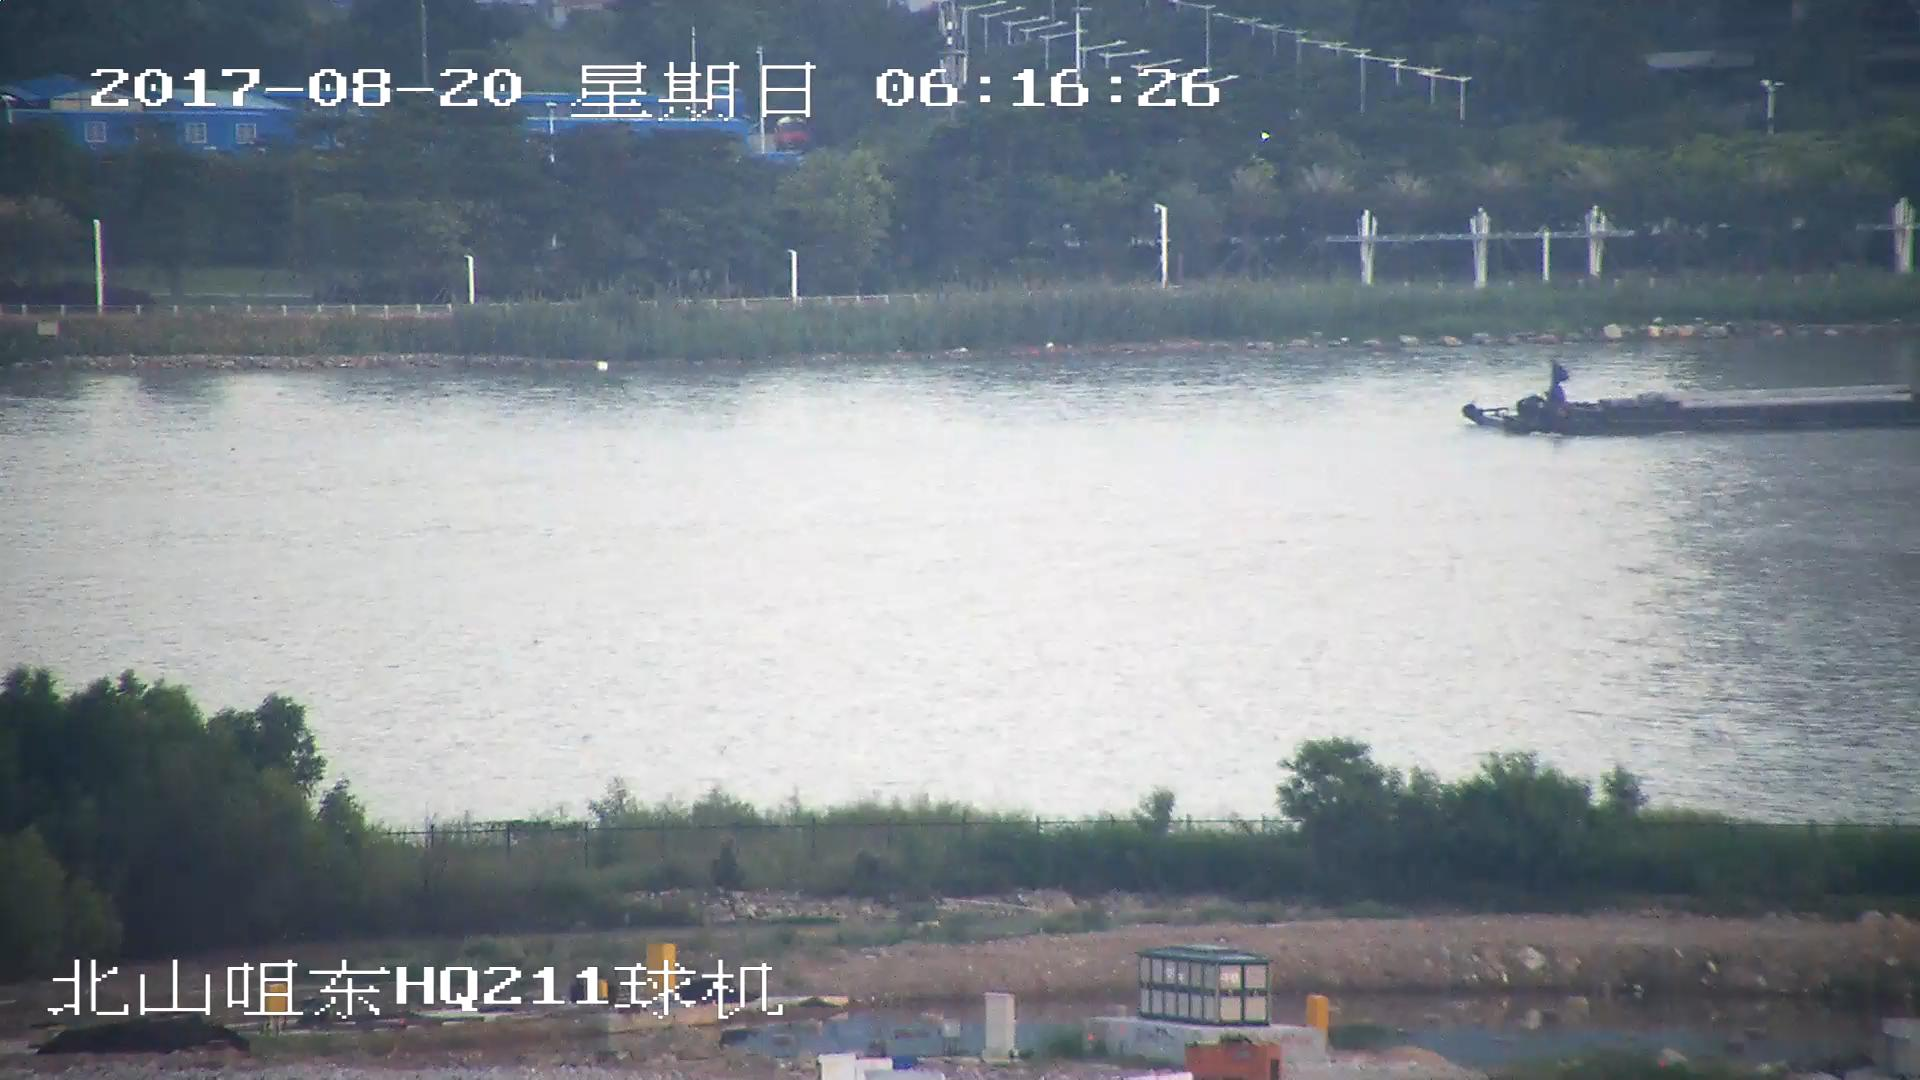bulk cargo carrier: (1464, 369, 1920, 437)
